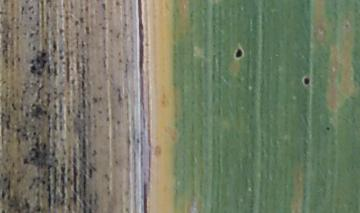tarspot: (29, 49, 50, 77), (50, 39, 58, 53), (234, 47, 243, 59), (302, 77, 311, 85), (324, 125, 331, 132), (343, 22, 350, 29)
